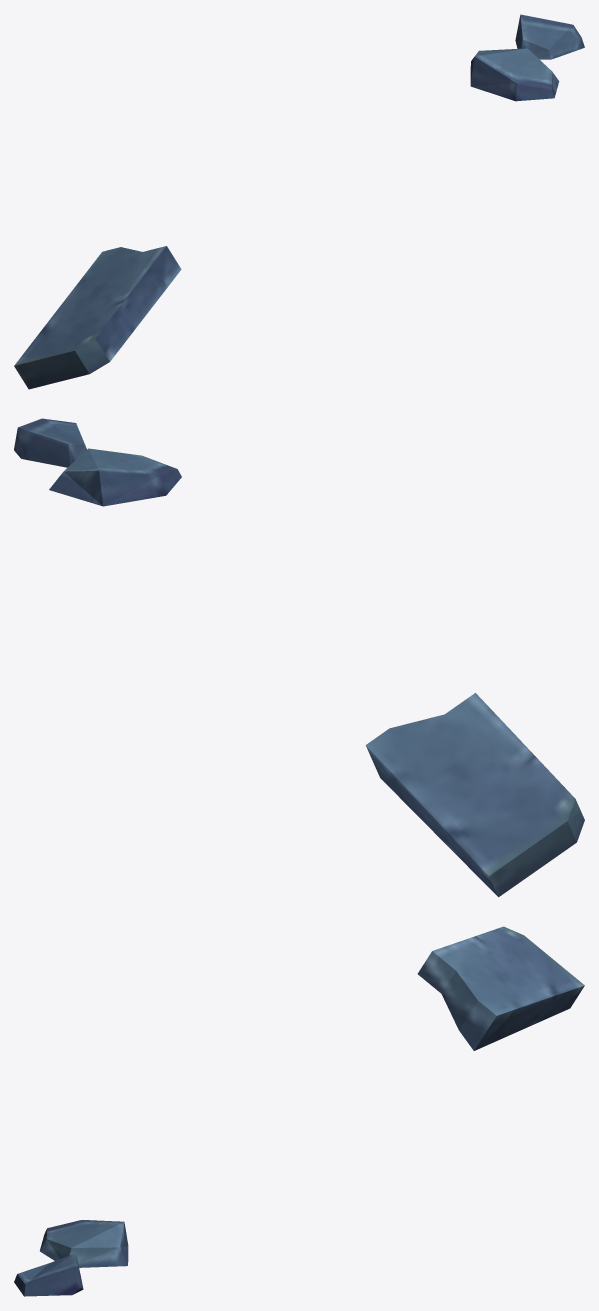
The model's file is Area08_28.fbx.
The picture shows the model from 3 angles, top to bottom: view 1: azimuth 90°, elevation 25°; view 2: azimuth 150°, elevation 25°; view 3: azimuth 270°, elevation 25°; orthographic projection. The views are drawn at different scales.
Visible parts, largest first — view 1: Area08_28; view 2: Area08_28; view 3: Area08_28.
Part boxes in pixels (x1,y1,x2,y2): Area08_28: (14,14,584,389); Area08_28: (14,418,584,897); Area08_28: (14,926,584,1296).
Size of the model in its own units: 1223 by 169 by 870.
1 material, 1 textured.
